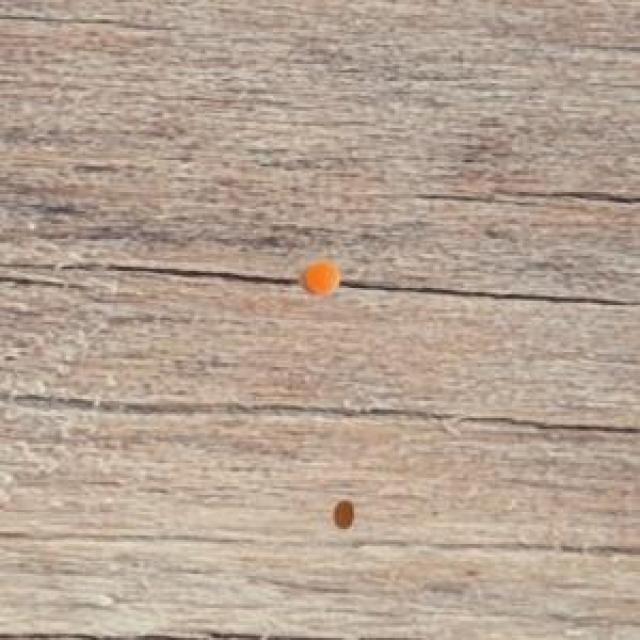Bactidol: (292, 247, 351, 310), (334, 492, 358, 532)
